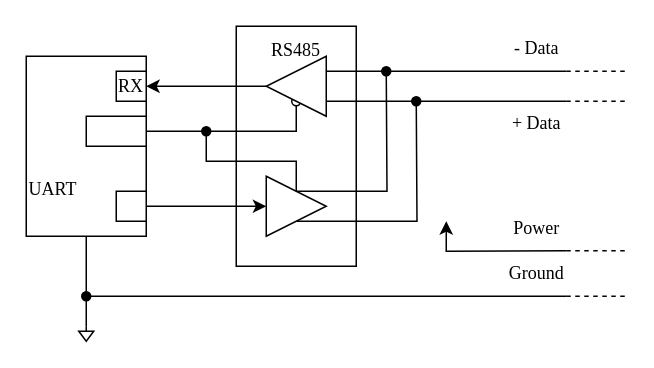
The diagram is 654 pixels wide and 368 high, and some of its shapes have lost their labels. Here are the shapes that lost their labels. From the top down, the box of each, then its label:
(85, 115, 146, 146): TX_EN
(115, 190, 146, 221): TX
